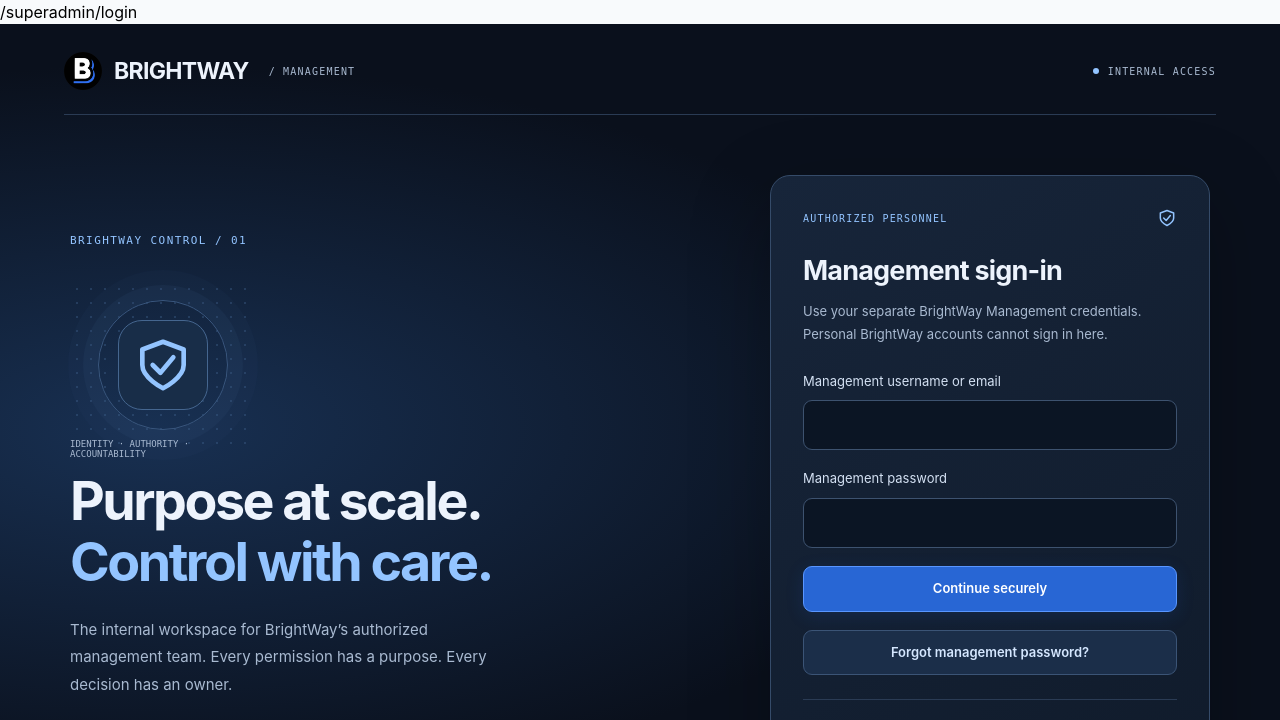
Scenario: management recovery submits email proof and existing MFA to its own realm without personal recovery
This screenshot has width=1280, height=720.
Step 1. Click the button "Forgot management password?" → click(990, 652), box top-left (803, 630), bottom-right (1177, 675)
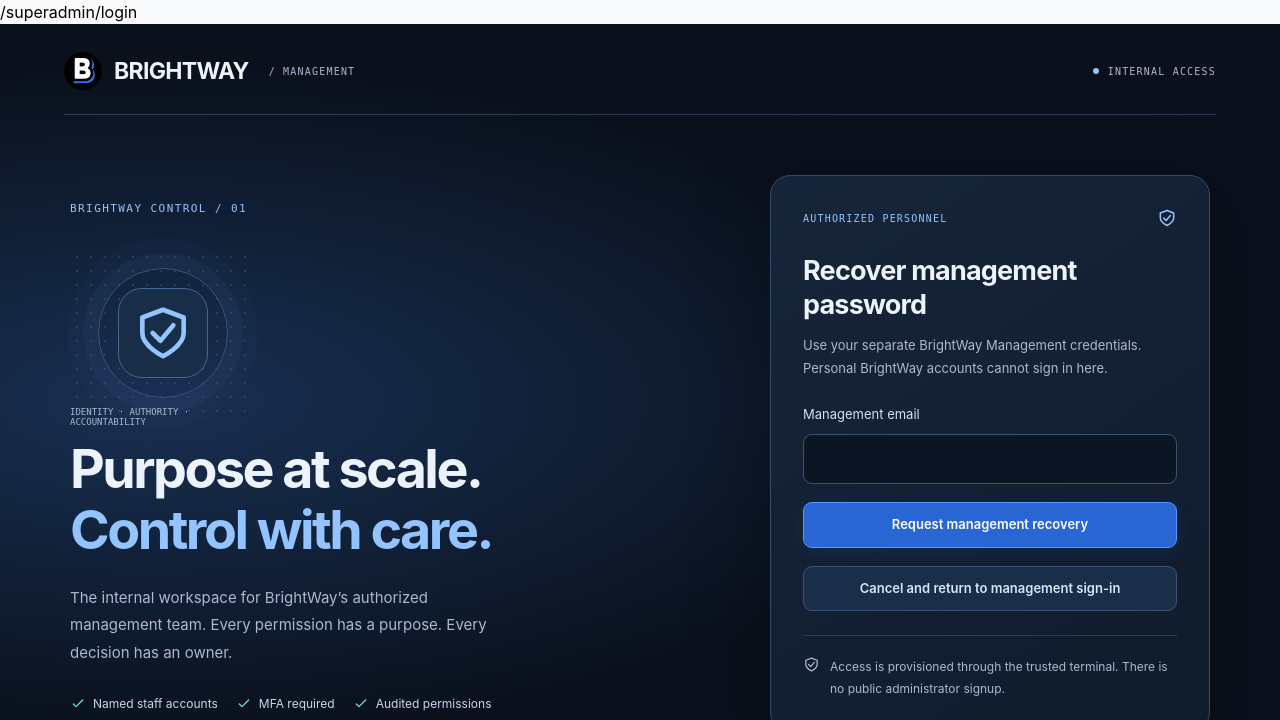
Step 2. Type "founder@management.example.invalid" into the field labelled "Management email" → (990, 459), box top-left (803, 434), bottom-right (1177, 484)
Step 3. Click the button "Request management recovery" → click(990, 525), box top-left (803, 502), bottom-right (1177, 548)
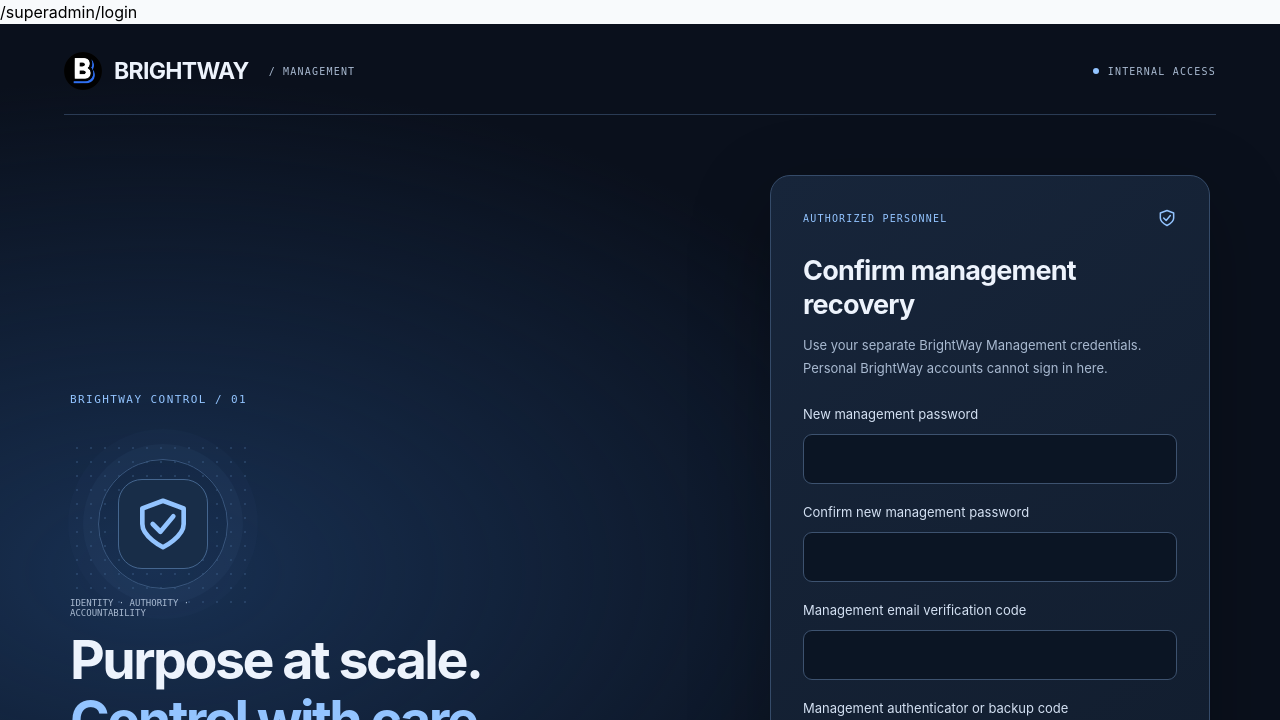
Step 4. Type "new management passphrase" into the password field labelled "New management password" → (990, 459), box top-left (803, 434), bottom-right (1177, 484)
Step 5. Type "new management passphrase" into the password field labelled "Confirm new management password" → (990, 557), box top-left (803, 532), bottom-right (1177, 582)
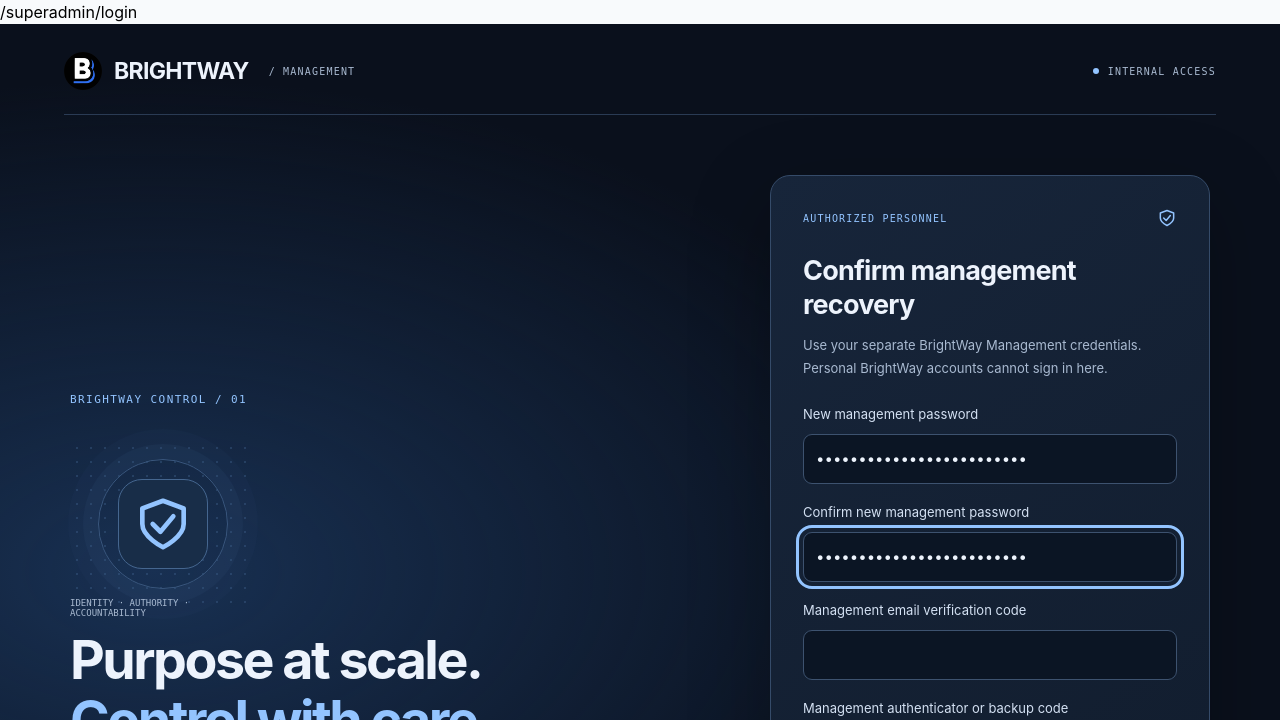
Step 6. Type "654321" into the field labelled "Management email verification code" → (990, 655), box top-left (803, 630), bottom-right (1177, 680)
(page scrolled)
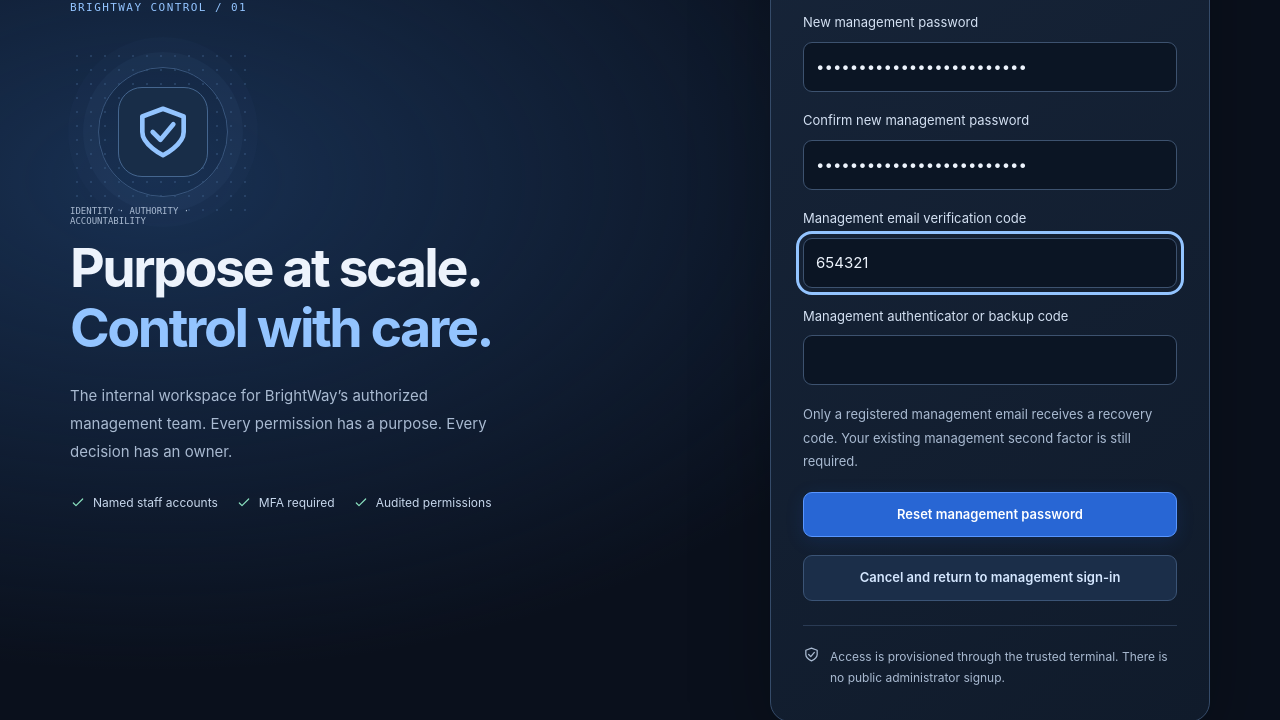
Step 7. Type "123456" into the field labelled "Management authenticator or backup code" → (990, 360), box top-left (803, 336), bottom-right (1177, 386)
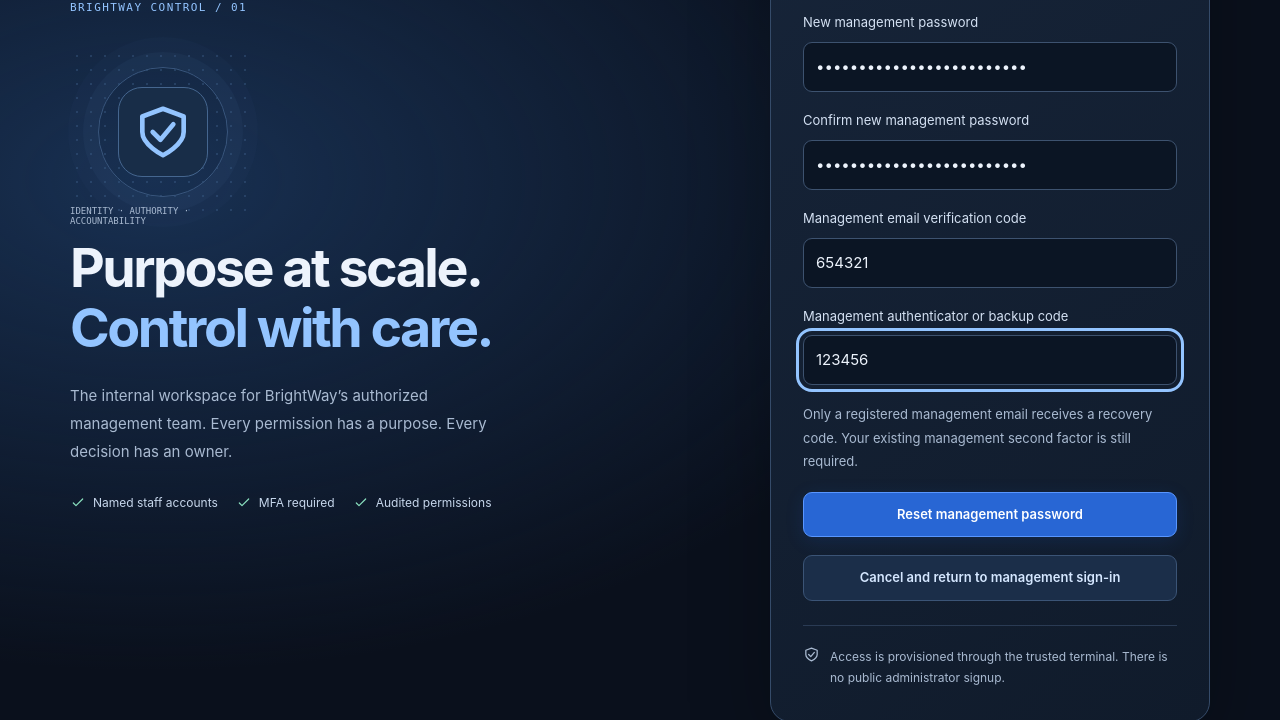
Step 8. Click the button "Reset management password" → click(990, 514), box top-left (803, 492), bottom-right (1177, 537)
(page scrolled)
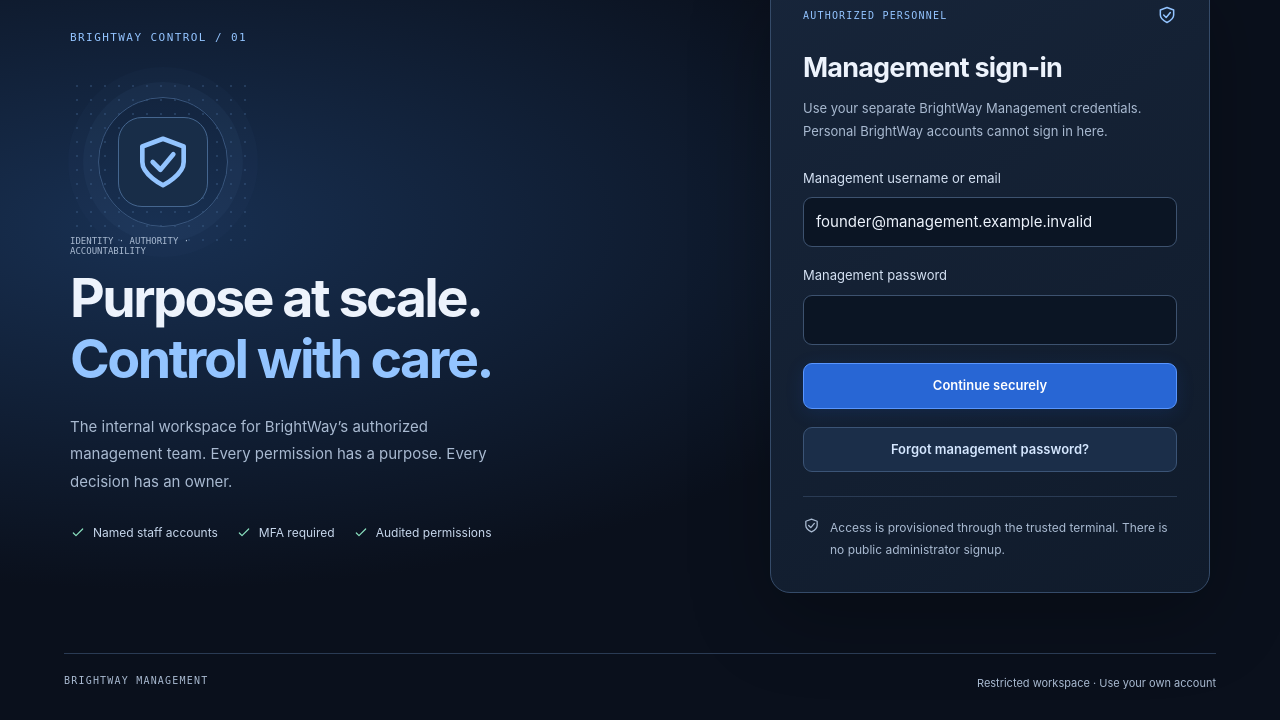
Check: the password field labelled "Management password" is empty, box top-left (803, 295), bottom-right (1177, 345)
